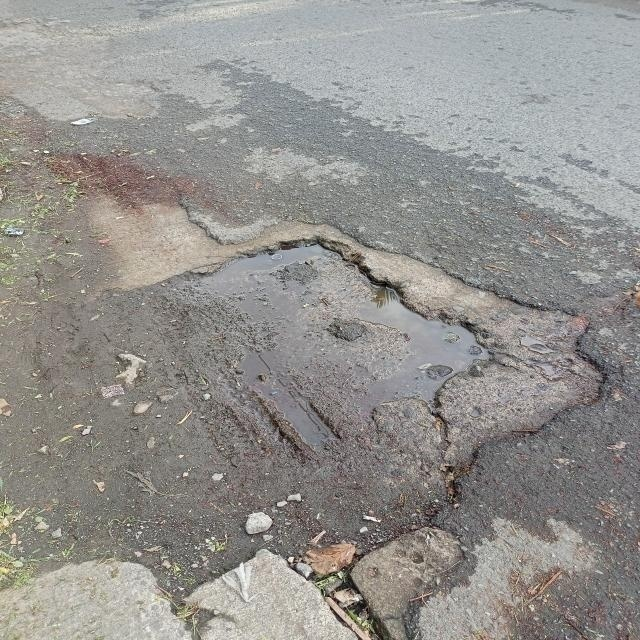pothole: (175, 224, 495, 464)
